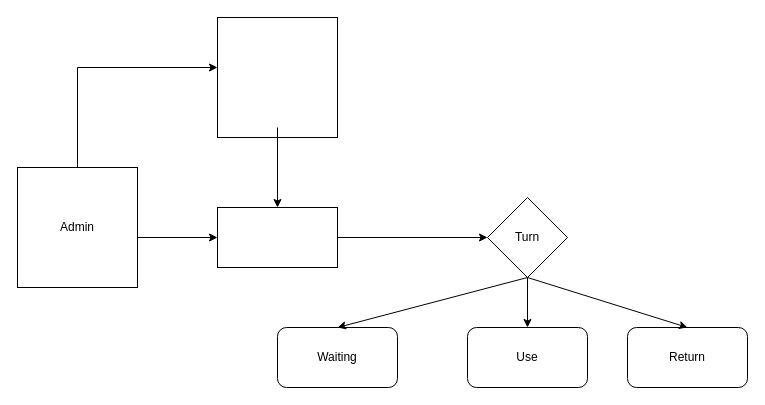
Image size: 765x405. Some labels were removed from this diagram. The shapes that lost their labels are listed below. From the top down, each one's centre as x and y in pixels, then its label:
At [277,77]: "User".
At [277,237]: "Device".
